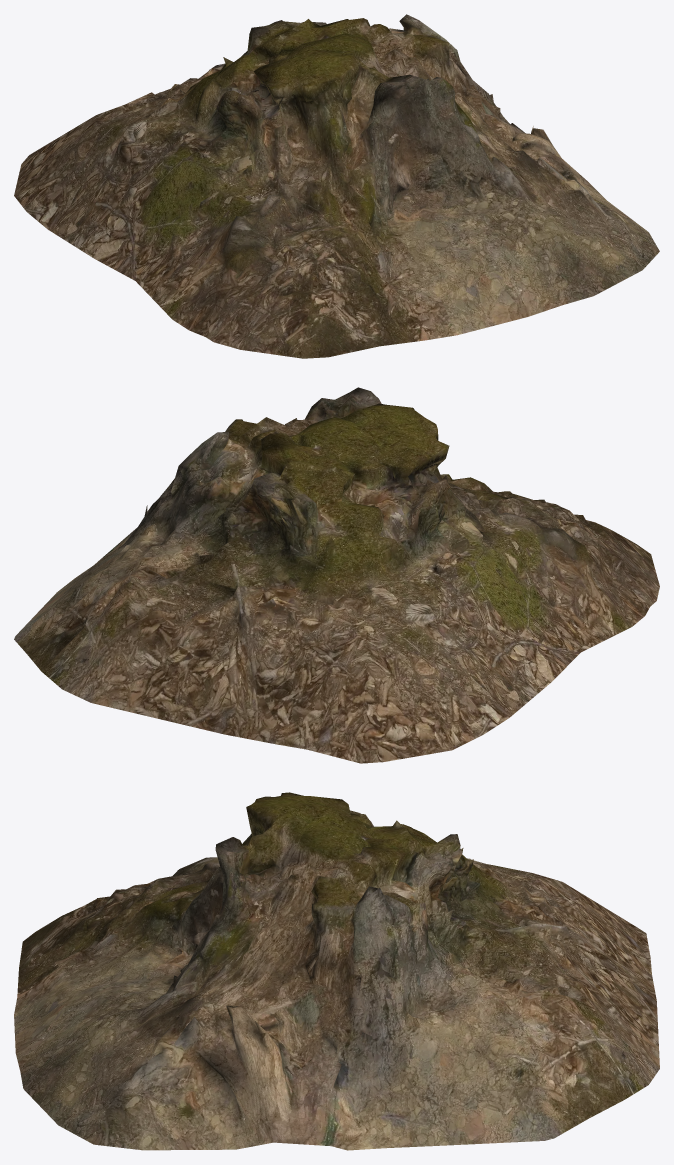
Rendered from assets__ph__tree_stump_01.glb.
3 views of the same model, one above another, from view 1: azimuth 30°, elevation 25°; view 2: azimuth 150°, elevation 25°; view 3: azimuth 270°, elevation 25° (orthographic). The views are drawn at different scales.
Visible parts, largest first — view 1: tree_stump_01; view 2: tree_stump_01; view 3: tree_stump_01.
Boxes of the visible parts, x1=… form: tree_stump_01: x1=14, y1=14, x2=659, y2=358; tree_stump_01: x1=14, y1=387, x2=659, y2=763; tree_stump_01: x1=14, y1=792, x2=659, y2=1150.
Size of the model in its own units: 1.43 by 0.5687 by 1.58.
1 material, 1 textured.
